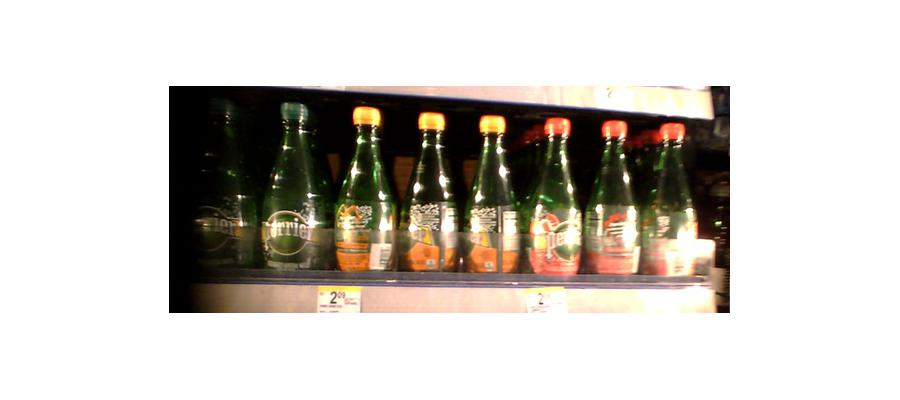bottle: (261, 95, 328, 276), (333, 104, 394, 280), (197, 97, 254, 272), (400, 110, 457, 277), (527, 118, 583, 283), (465, 113, 520, 278), (642, 121, 698, 282), (585, 118, 640, 281)
